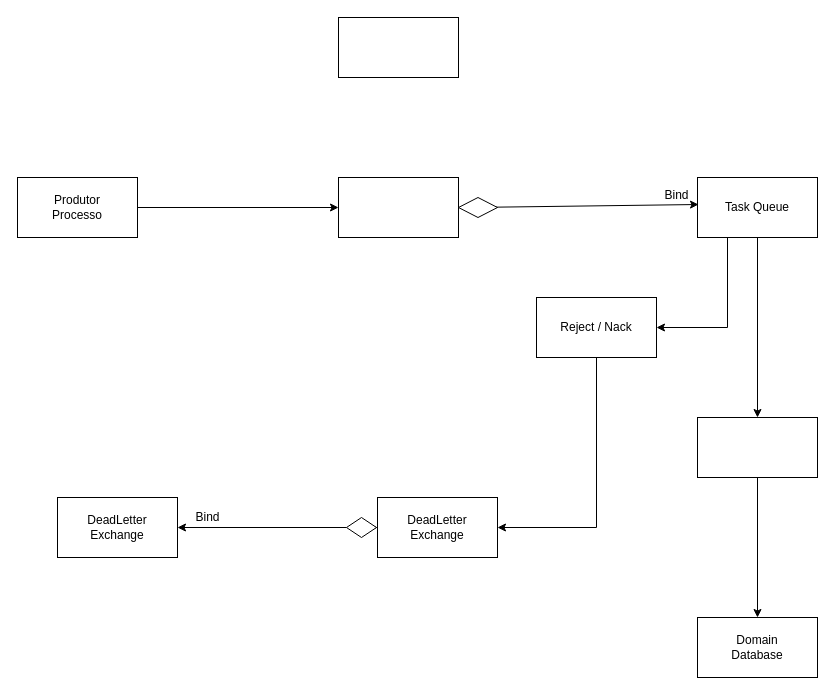
The diagram is 835 pixels wide and 695 high, and some of its shapes have lost their labels. The shapes that lost their labels are listed below. From the top down, each one's box as (x1, y1, x2, y2) in pixels, then its label:
(338, 16, 458, 78): activity Message XYZ properties
(338, 176, 458, 238): block Task Exchange properties Bind, Task Queue
(696, 416, 818, 478): Comsumidor Processo
